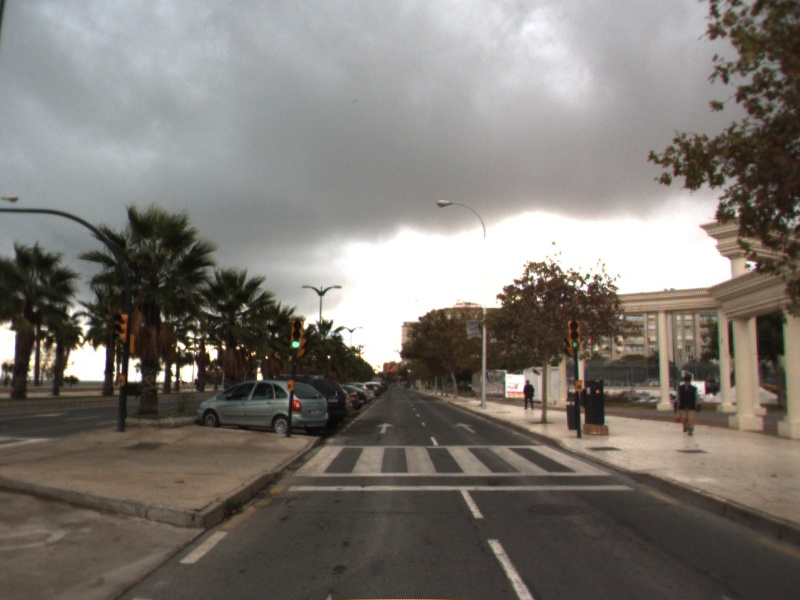STRAIGHT: (452, 421, 479, 435), (374, 421, 397, 436)
